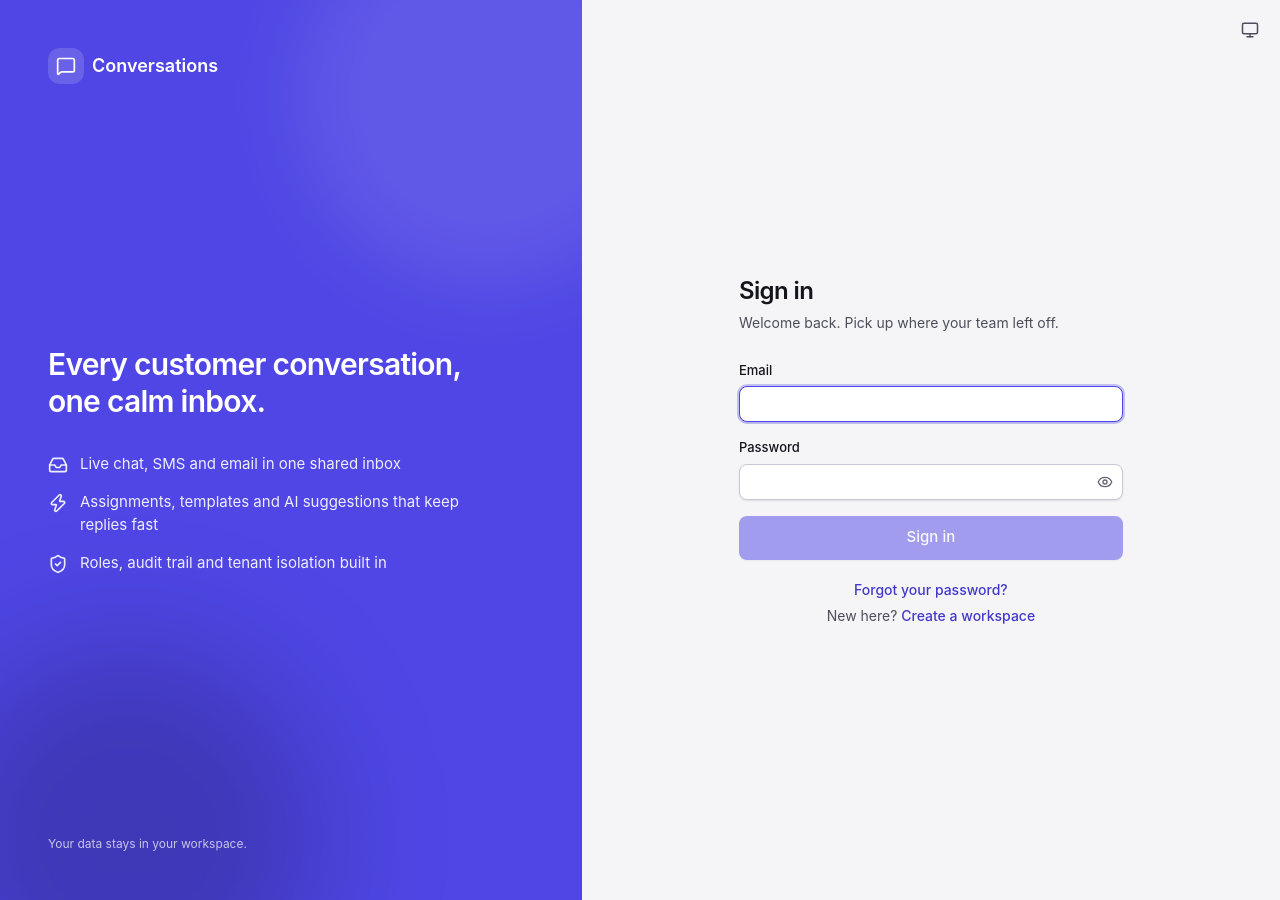
Test: LoginPage › has labelled fields and a disabled submit until both are filled
This screenshot has width=1280, height=900.
Check: the button "Sign in" is disabled, box top-left (739, 516), bottom-right (1123, 560)
Step 1. Type "ada@example.test" into the field labelled "Email" → (931, 404), box top-left (739, 386), bottom-right (1123, 422)
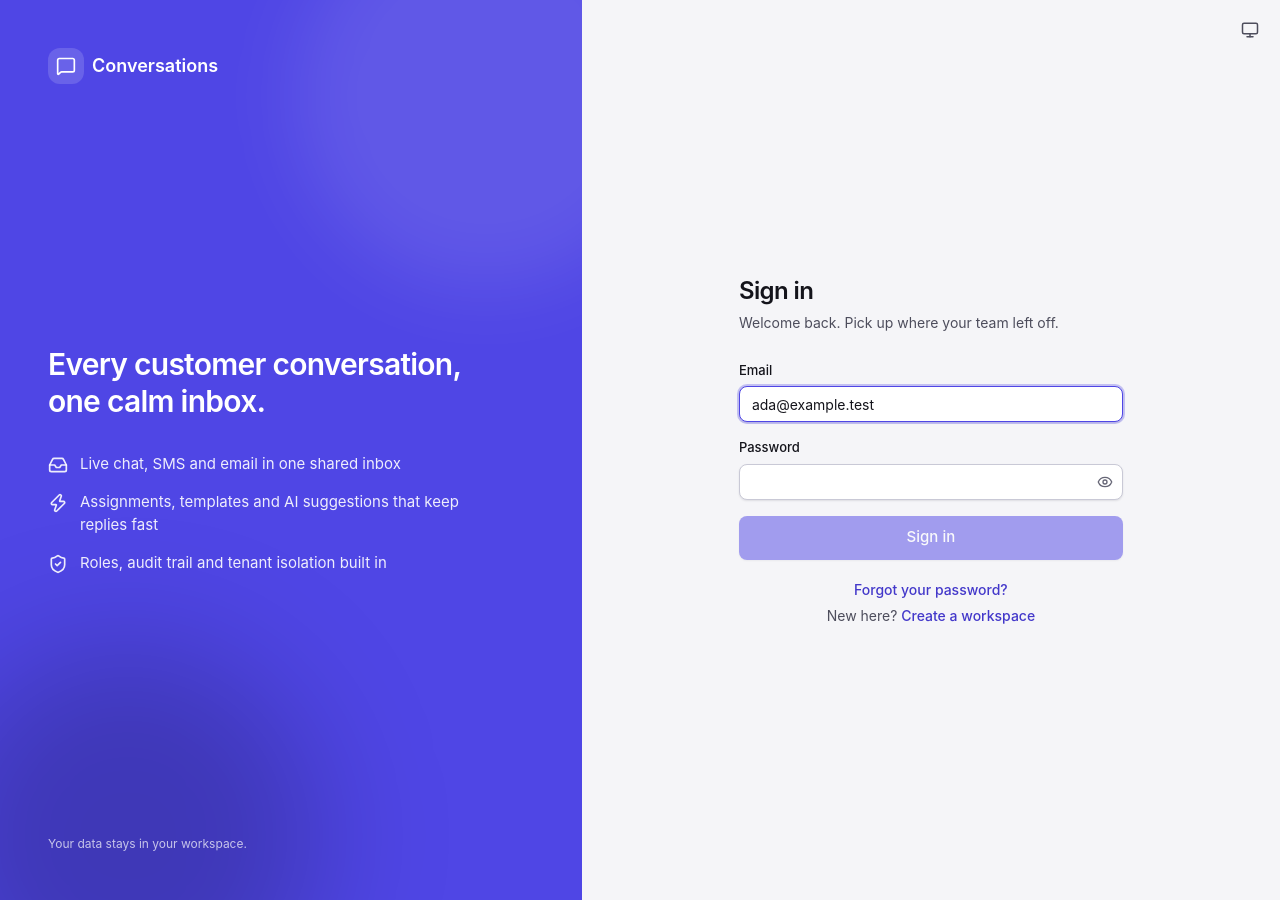
Step 2. Type "secret-pass" into the password field labelled "Password" → (931, 482), box top-left (739, 464), bottom-right (1123, 500)
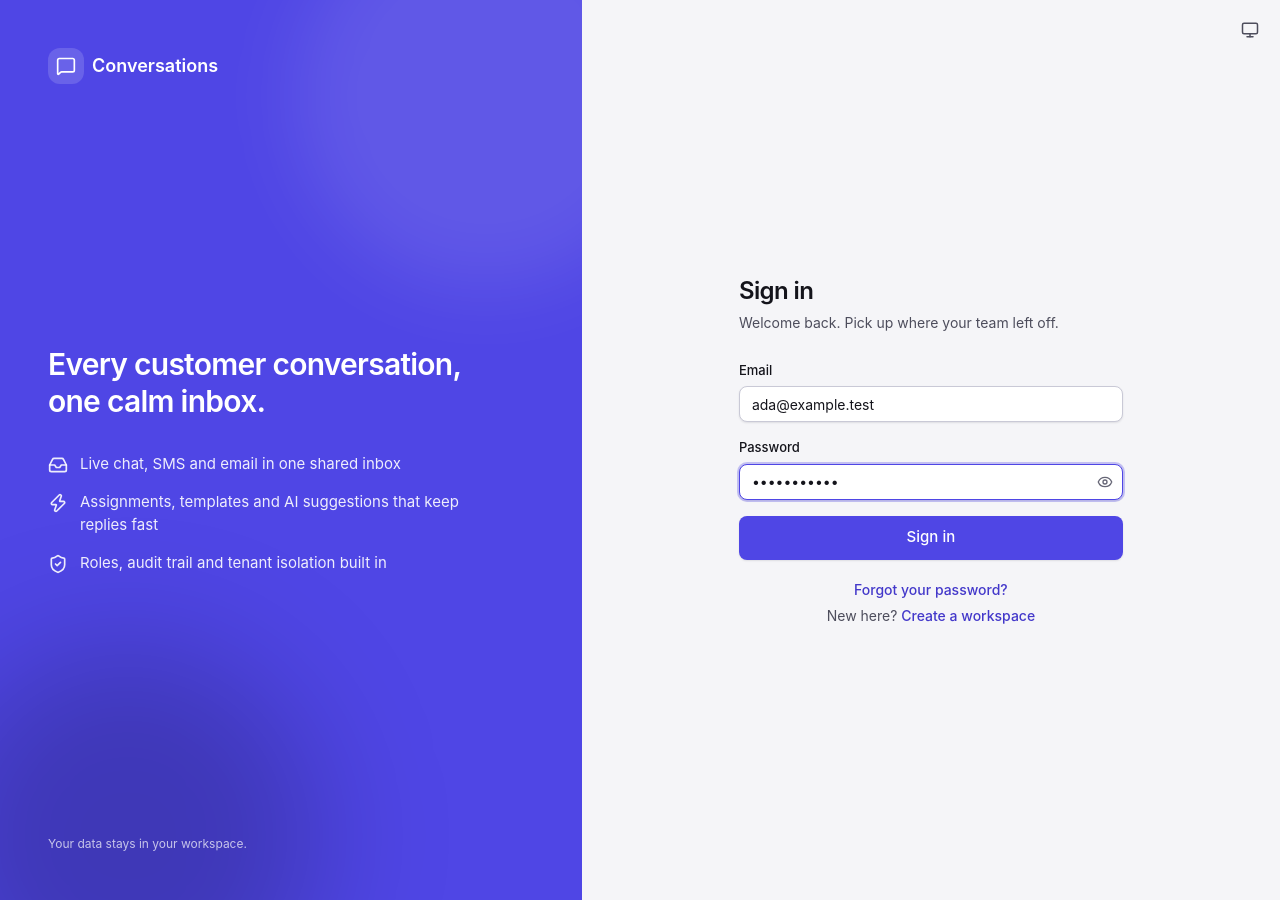
Check: the button "Sign in" is enabled, box top-left (739, 516), bottom-right (1123, 560)
